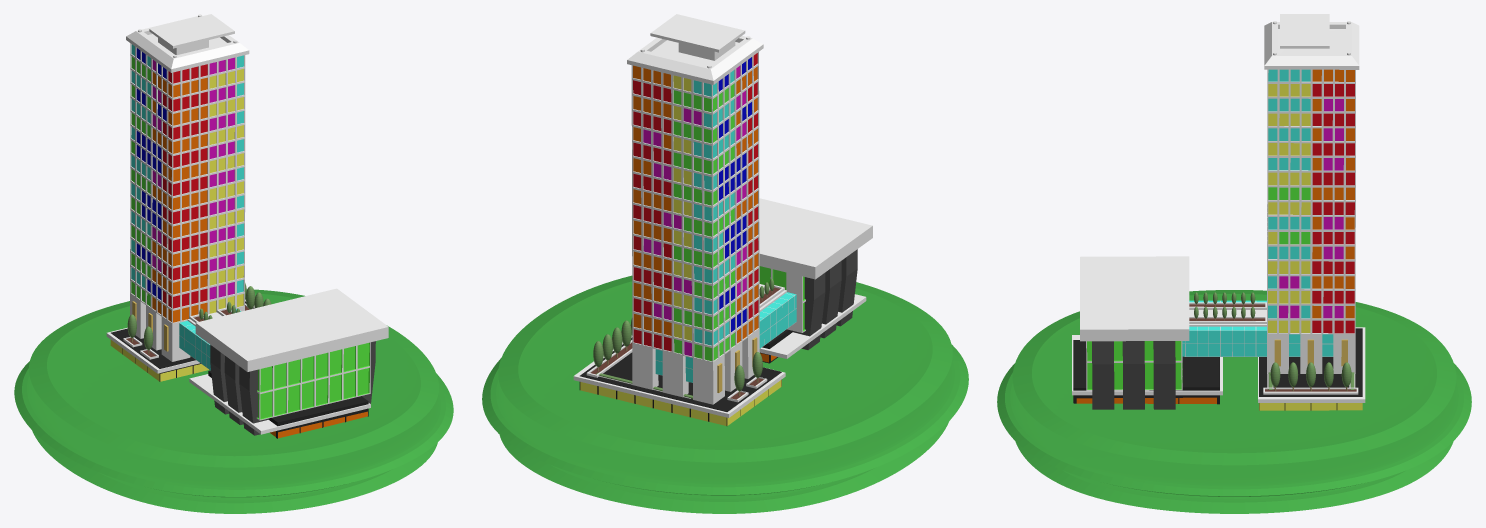
The model's file is building.glb.
3 views of the same model, side by side, from view 1: azimuth 30°, elevation 25°; view 2: azimuth 150°, elevation 25°; view 3: azimuth 270°, elevation 25° (orthographic). The views are drawn at different scales.
Visible parts, largest first — view 1: building; view 2: building; view 3: building.
Boxes of the visible parts, <box> form: building: <box>14,14,453,513</box>; building: <box>482,14,968,513</box>; building: <box>997,14,1471,513</box>.
Size of the model in its own units: 63.63 by 62.27 by 67.63.
